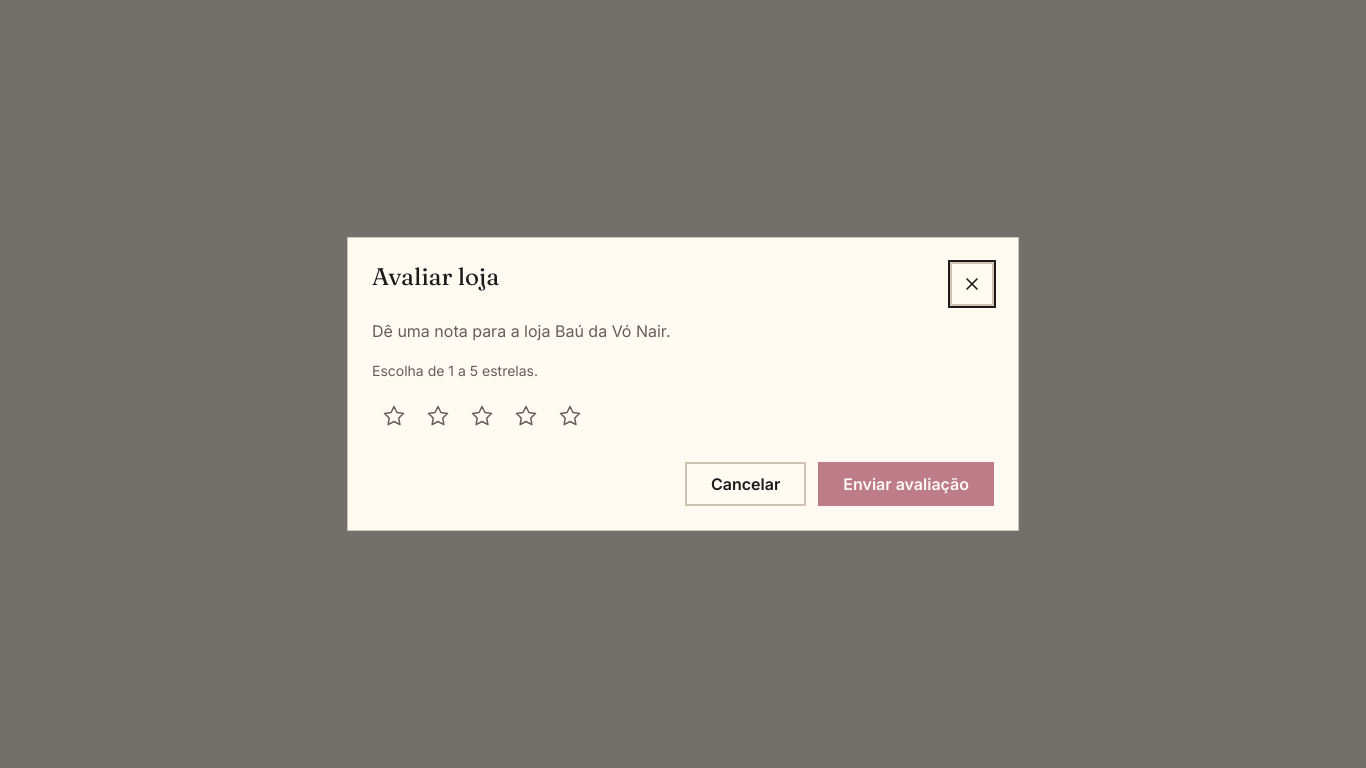
Test: <RateStoreDialog /> › falha de rede mostra a mensagem genérica
Click the radio button named "2 de 5 estrelas": (438, 416) [416, 394, 460, 438]
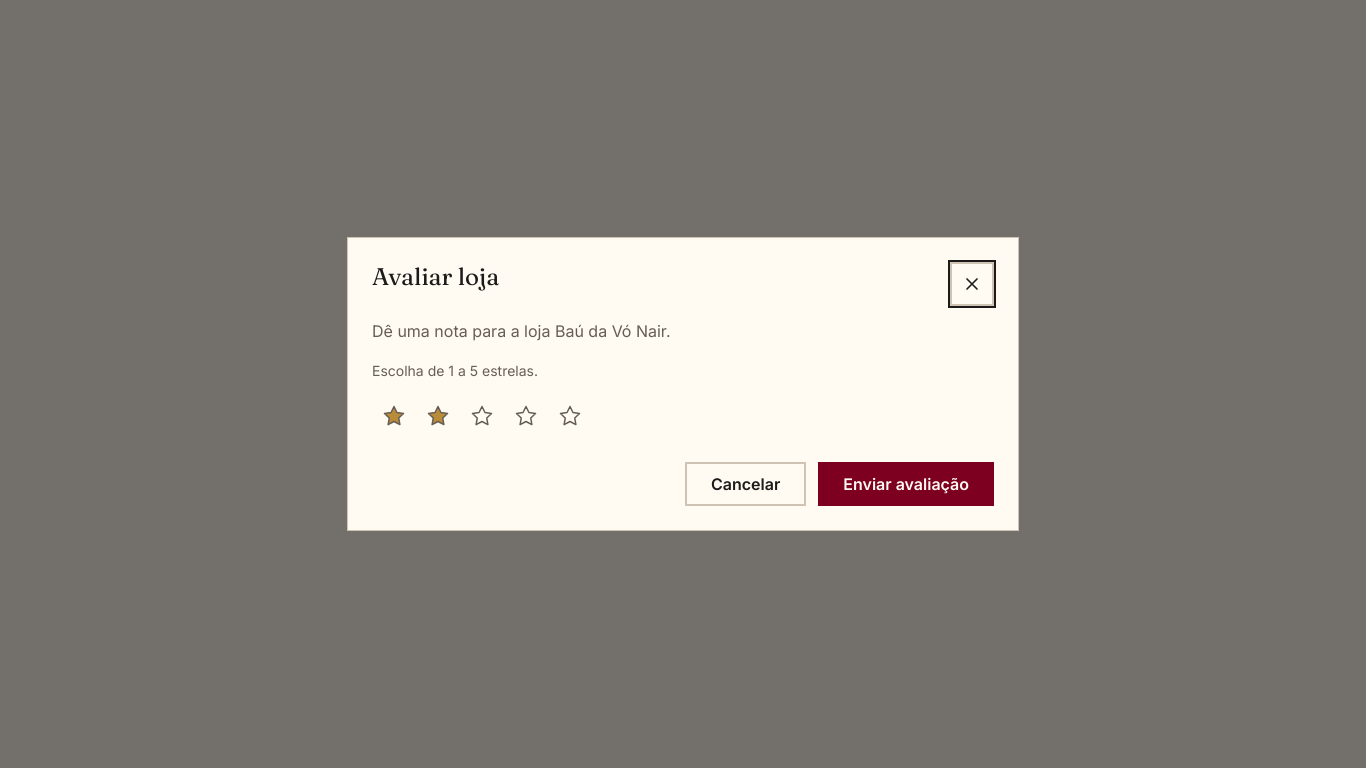
Click the button "Enviar avaliação": (906, 484) [818, 462, 994, 506]
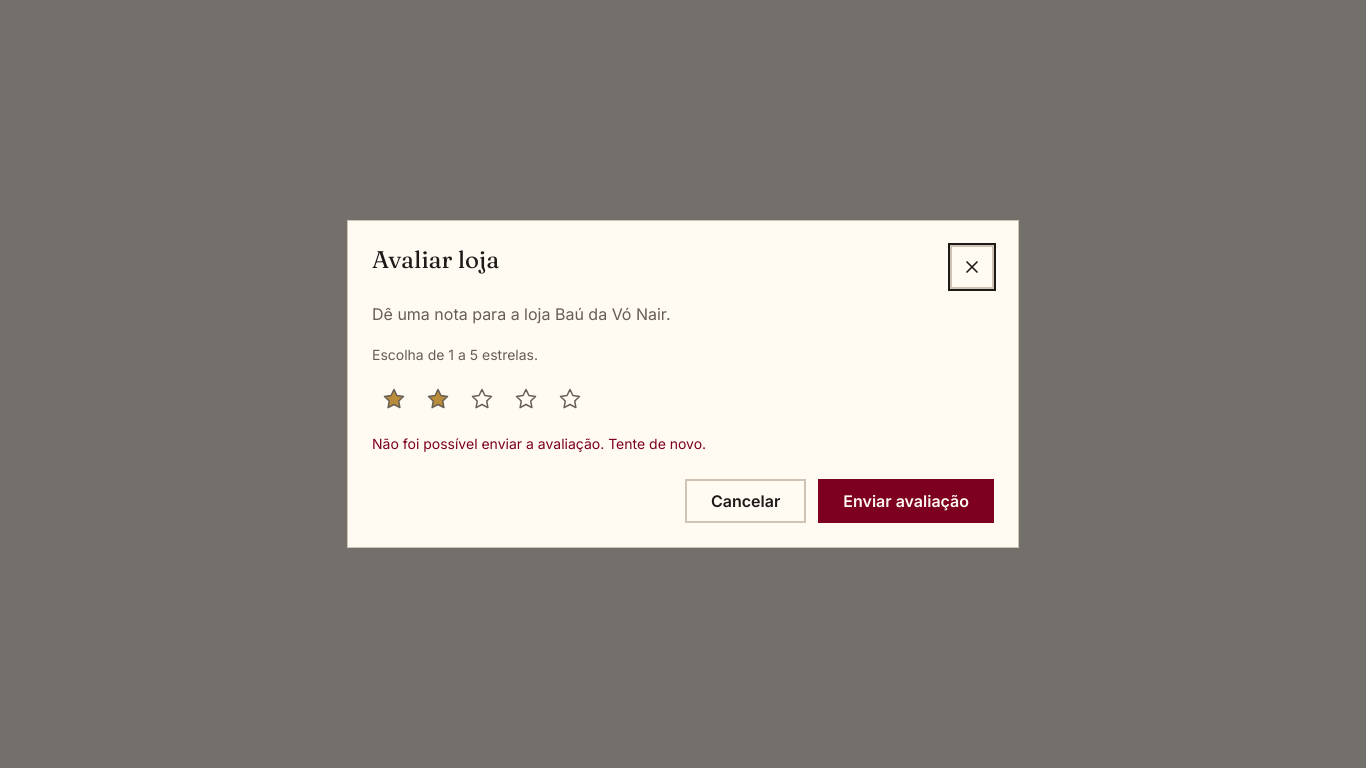
Expected: the message reads "Não foi possível enviar a avaliação. Tente de novo.", [372, 435, 706, 452]
